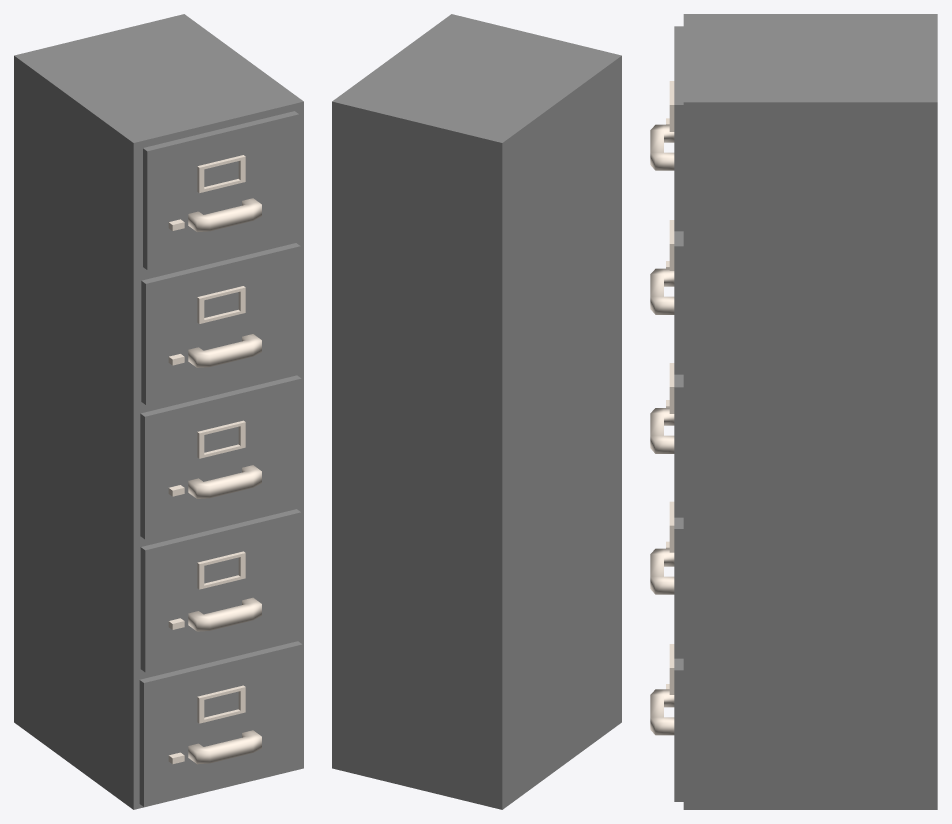
The model's file is ClosedFileCabinet.fbx.
The picture shows the model from 3 angles, left to right: view 1: azimuth 30°, elevation 25°; view 2: azimuth 150°, elevation 25°; view 3: azimuth 270°, elevation 25°; orthographic projection. The views are drawn at different scales.
Visible parts, largest first — view 1: Cube; view 2: Cube; view 3: Cube.
Boxes of the visible parts, x1=… form: Cube: x1=14, y1=14, x2=303, y2=809; Cube: x1=332, y1=14, x2=621, y2=809; Cube: x1=650, y1=14, x2=937, y2=809.
Size of the model in its own units: 231 by 865 by 318.
